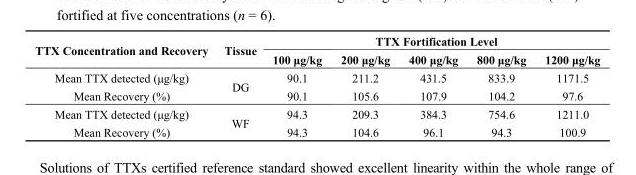table: (34, 34, 599, 138)
table column: (34, 34, 215, 138), (330, 34, 398, 138), (398, 34, 466, 138), (466, 34, 534, 138), (263, 34, 330, 138), (534, 34, 599, 138), (215, 34, 263, 138)
table column header: (34, 34, 599, 68)
table row: (34, 49, 599, 68), (34, 68, 599, 86), (34, 86, 599, 104), (34, 104, 599, 122), (34, 122, 599, 138), (34, 34, 599, 49)
table spanning cell: (34, 34, 215, 68), (263, 34, 599, 49), (215, 68, 263, 104), (215, 34, 263, 68), (215, 104, 263, 138)
